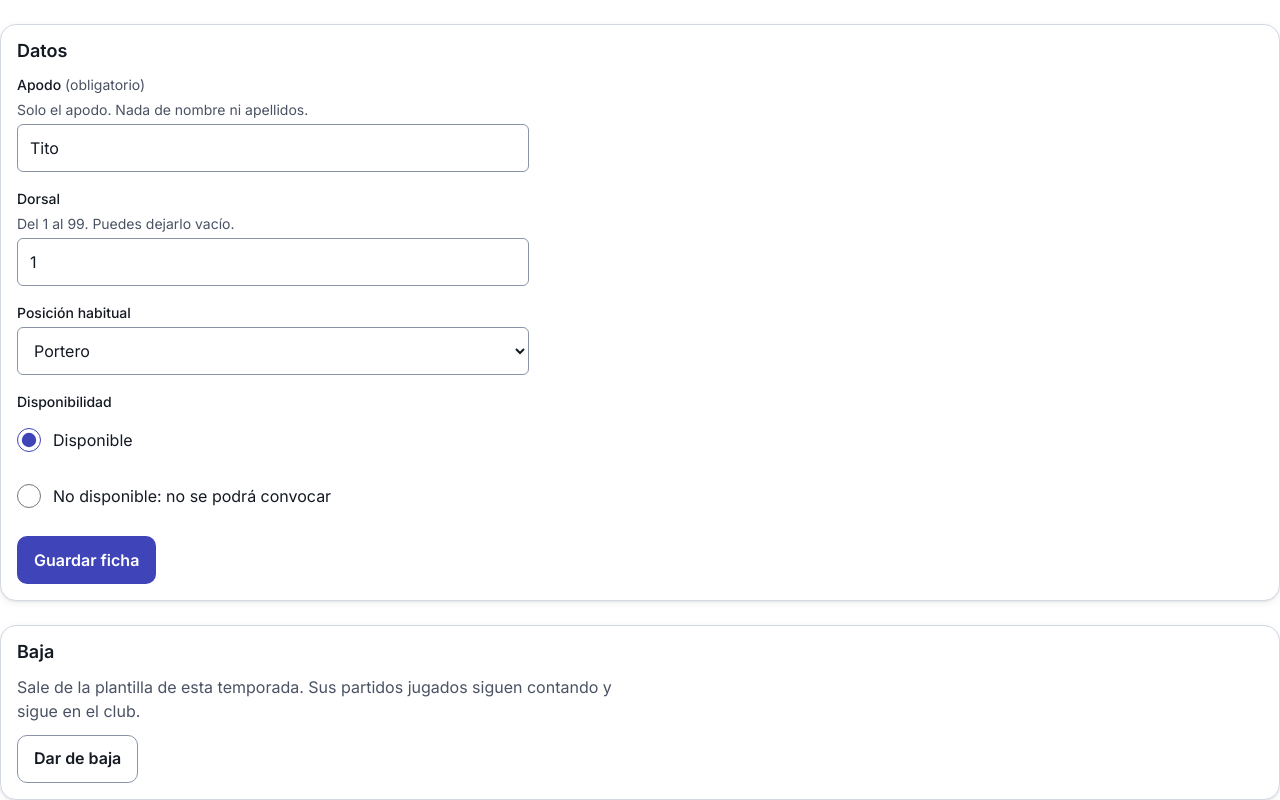
it: A06 · Ficha de jugador › la baja pide confirmación y después vuelve a la plantilla
(page scrolled)
Click the button "Dar de baja": (78, 759) [17, 735, 138, 783]
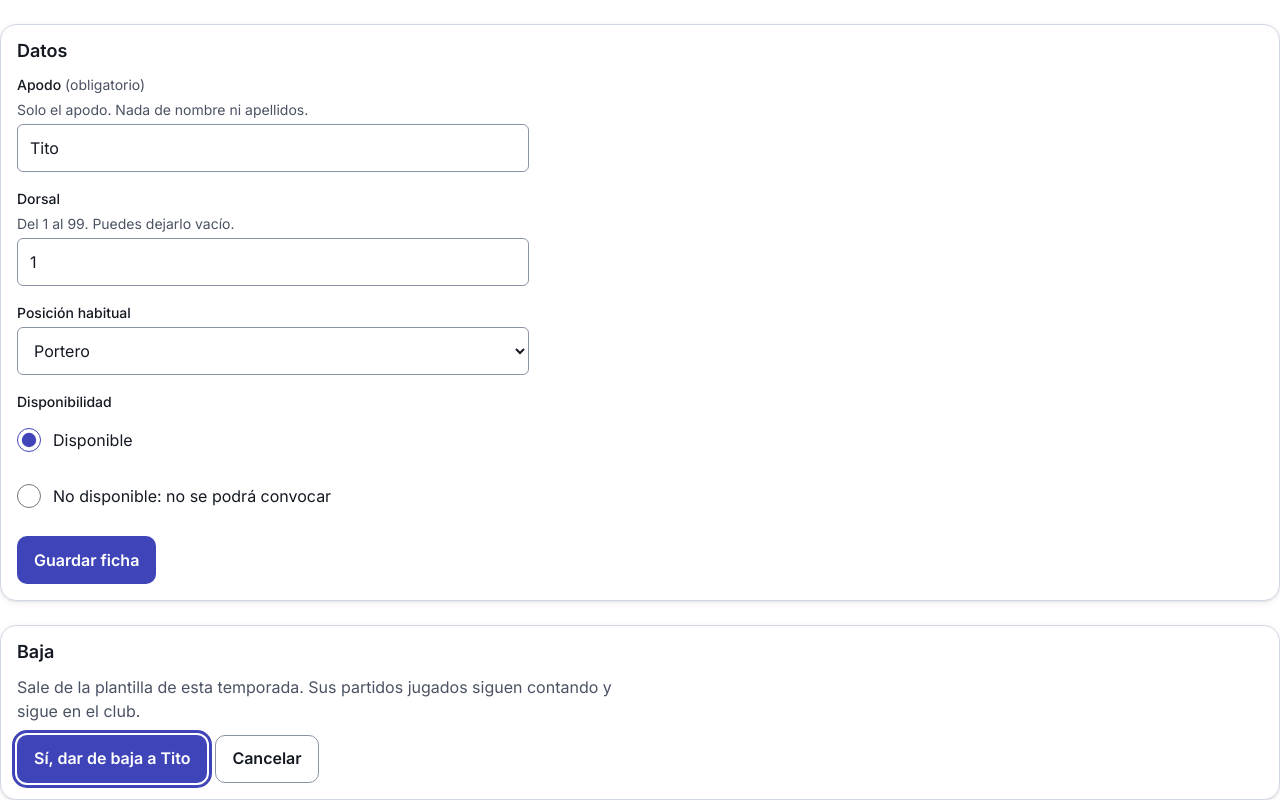
Click the button "Sí, dar de baja a Tito": (112, 759) [17, 735, 207, 783]
(page scrolled)
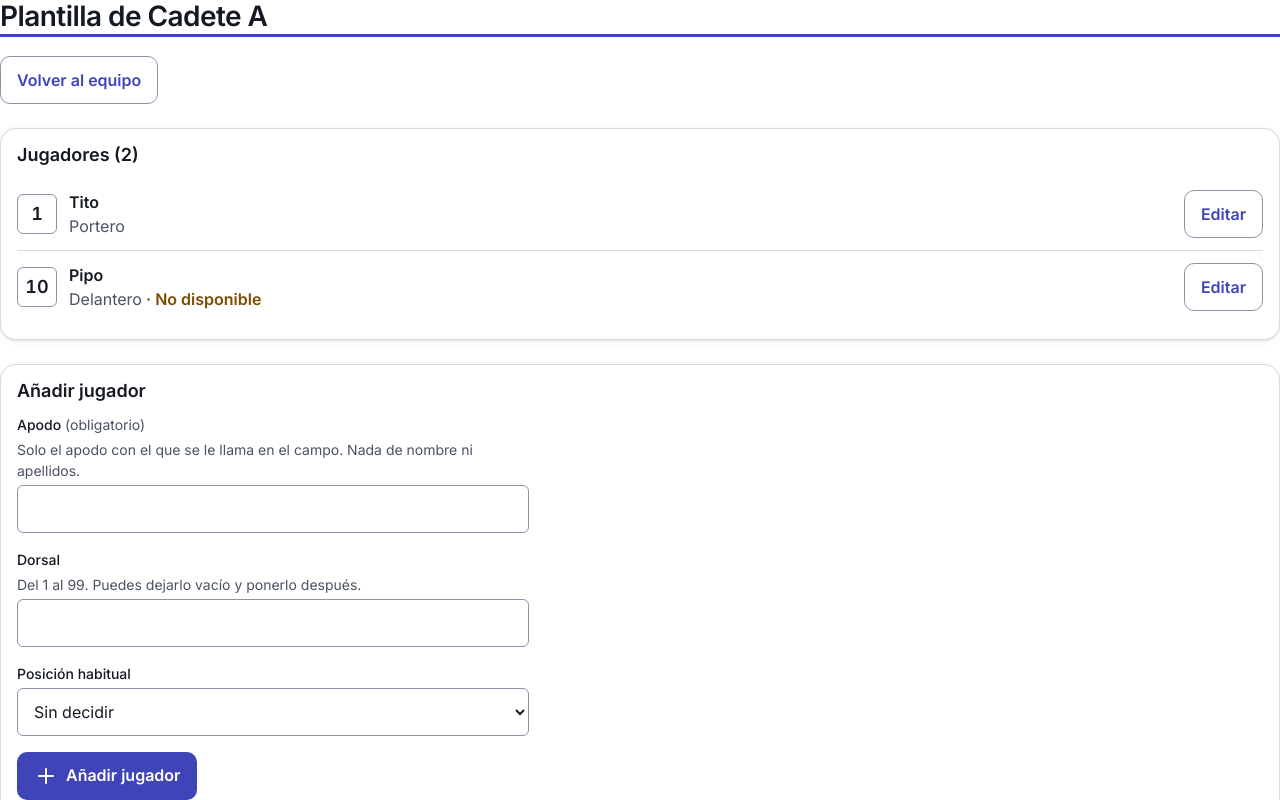
Expected: the heading "Plantilla de Cadete A" is shown, [0, 0, 267, 33]
